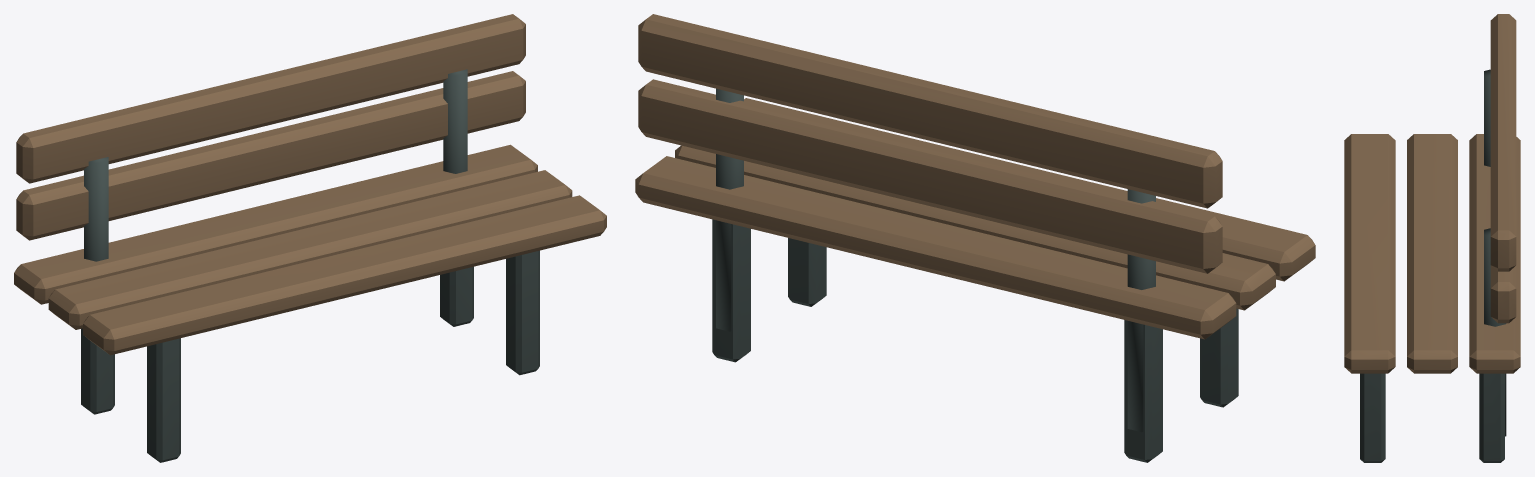
Rendered from bench-01-slatted.glb.
The picture shows the model from 3 angles, left to right: view 1: azimuth 30°, elevation 25°; view 2: azimuth 150°, elevation 25°; view 3: azimuth 270°, elevation 25°; orthographic projection. The views are drawn at different scales.
Parts seen in each view (by area): view 1: bench-01-slatted; view 2: bench-01-slatted; view 3: bench-01-slatted.
Boxes of the visible parts, x1,y1,x2,y2 form: bench-01-slatted: (14,14,606,462); bench-01-slatted: (635,14,1315,462); bench-01-slatted: (1344,14,1520,462).
Size of the model in its own units: 1.85 by 1 by 0.62.
